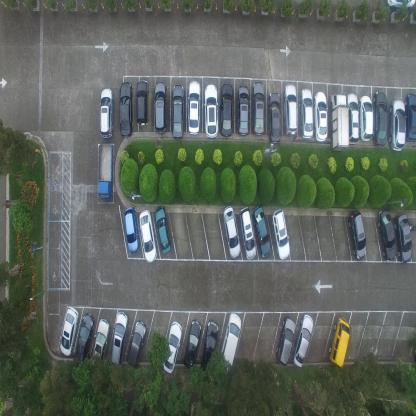car: (218, 312, 241, 373), (328, 315, 351, 368), (292, 314, 314, 368), (199, 320, 219, 378), (330, 91, 349, 152), (162, 318, 182, 373), (274, 316, 295, 367), (90, 318, 110, 371), (59, 304, 79, 356), (377, 207, 397, 259), (238, 205, 256, 262), (97, 143, 114, 203), (252, 204, 271, 257), (182, 317, 202, 367), (222, 206, 240, 261), (138, 209, 156, 264), (110, 310, 128, 365), (126, 318, 146, 367), (75, 310, 94, 361), (272, 208, 290, 259), (348, 209, 366, 260), (394, 212, 412, 262), (390, 98, 406, 153), (203, 83, 218, 139), (154, 206, 171, 255), (119, 80, 133, 138), (373, 89, 387, 147), (283, 82, 298, 136), (171, 83, 185, 140), (99, 86, 114, 139), (187, 80, 201, 136), (300, 86, 314, 140), (220, 81, 233, 139), (358, 94, 374, 141), (314, 89, 328, 142), (123, 206, 138, 255), (252, 81, 265, 137), (153, 80, 166, 135), (135, 79, 149, 127), (237, 84, 249, 138), (269, 90, 280, 146), (347, 90, 358, 145), (405, 93, 415, 143), (386, 0, 416, 10)
